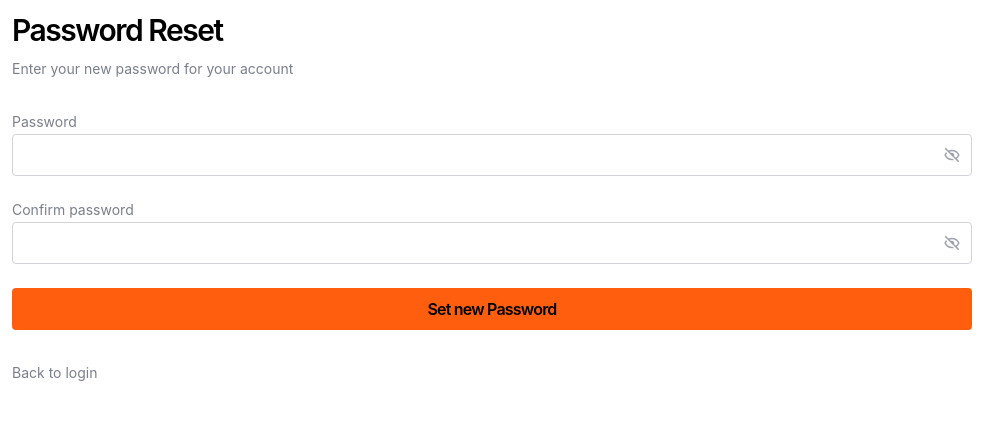
<ResetPassword /> › Form validation › should show an error when the password is invalid
The width and height of the screenshot is (989, 442).
What coordinates should you click on to do the following:
click the button "Set new Password"
I would click on:
 (492, 309)
Its box is [12,288,972,330].
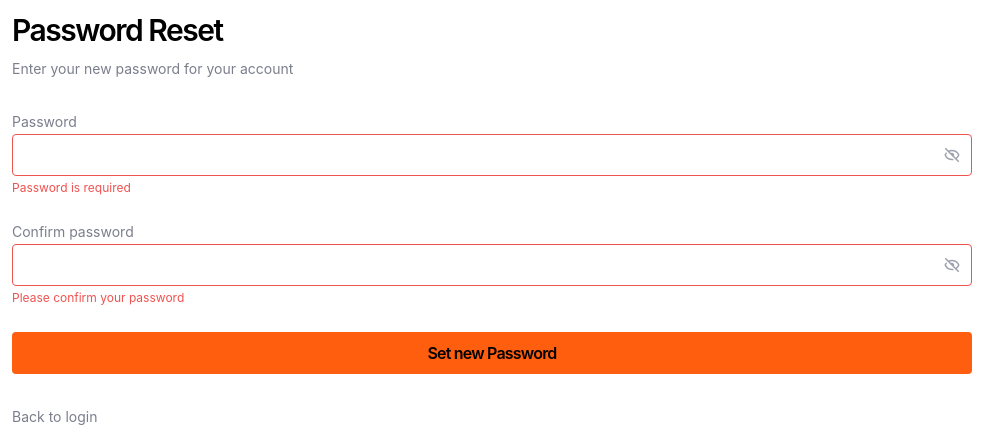
Check: the text "Password is required" is shown, box [12,180,131,195]
Check: the text "Please confirm your password" is shown, box [12,290,184,305]
